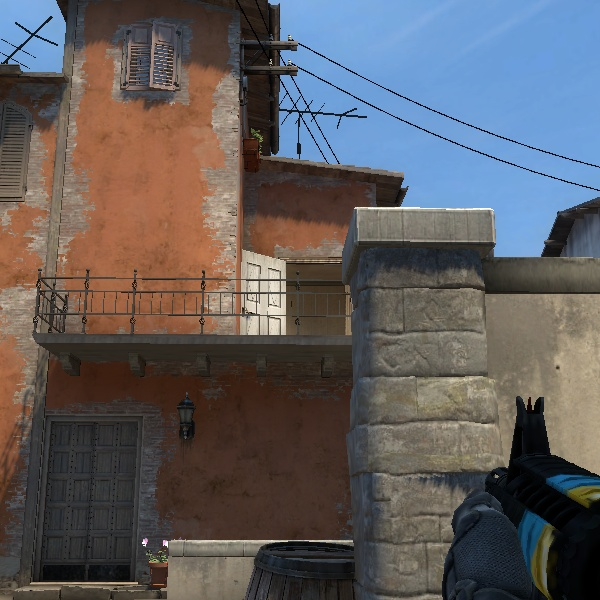ct_body: (147, 539, 176, 597)
